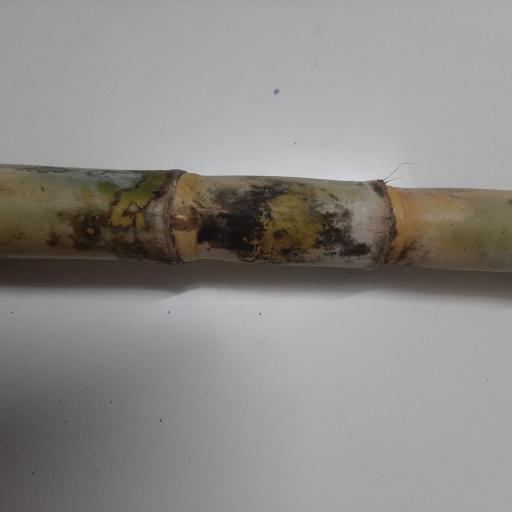Bud: (170, 208, 196, 230)
